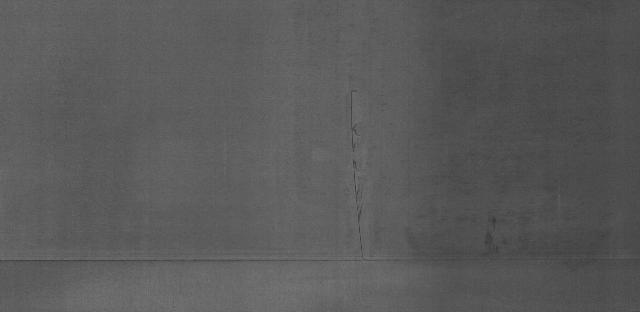oil_spot: (344, 80, 381, 258), (478, 215, 512, 249)
welding_line: (0, 253, 640, 272)
